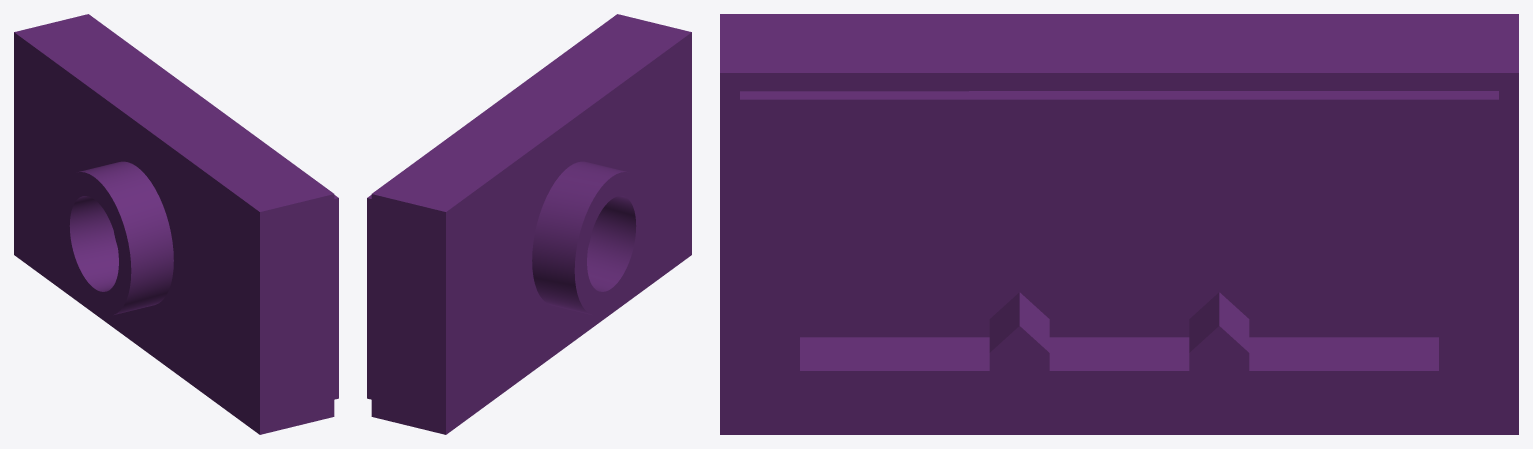
The model's file is plate(jumper)_medium_lavender.obj.
3 renders of one model, left to right at view 1: azimuth 30°, elevation 25°; view 2: azimuth 150°, elevation 25°; view 3: azimuth 270°, elevation 25°, orthographic. The views are drawn at different scales.
Bounding box in the file's own units: 12 × 20 × 40.
